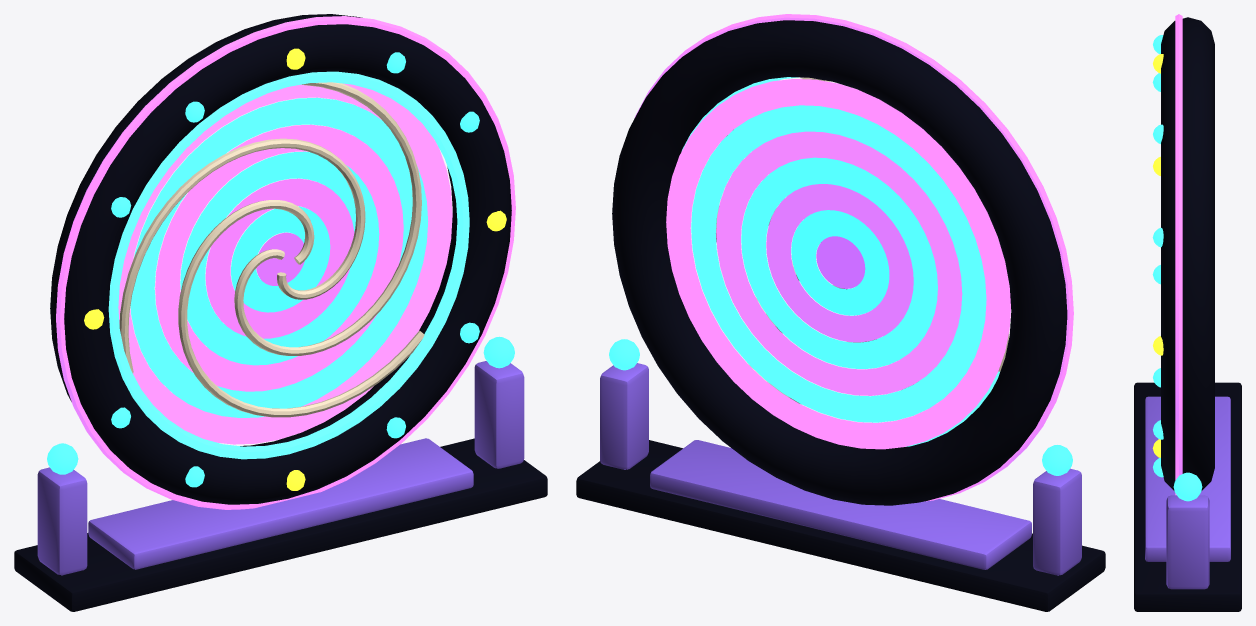
Rendered from CosmicPortal.fbx.
3 views of the same model, side by side, from view 1: azimuth 30°, elevation 25°; view 2: azimuth 150°, elevation 25°; view 3: azimuth 270°, elevation 25° (orthographic). The views are drawn at different scales.
Visible parts, largest first — view 1: CosmicPortal; view 2: CosmicPortal; view 3: CosmicPortal.
Part boxes in pixels (x1,y1,x2,y2): CosmicPortal: (14, 14, 547, 611); CosmicPortal: (576, 14, 1105, 611); CosmicPortal: (1134, 14, 1241, 611).
Size of the model in its own units: 14 by 14.44 by 3.
